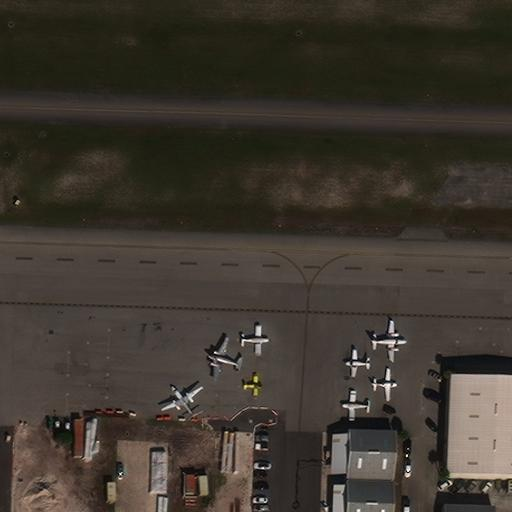Small Civil Transport: (370, 320, 406, 361), (207, 336, 241, 379), (160, 385, 201, 417), (341, 389, 370, 422), (240, 324, 269, 354), (371, 368, 397, 400), (344, 348, 370, 377), (243, 373, 262, 396)
